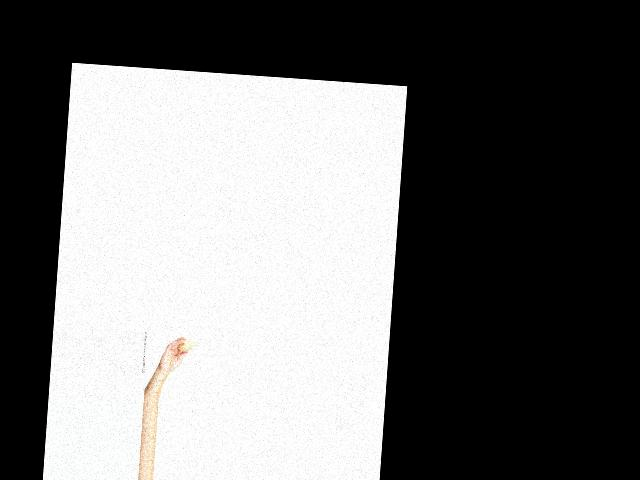egg: (177, 339, 194, 352)
